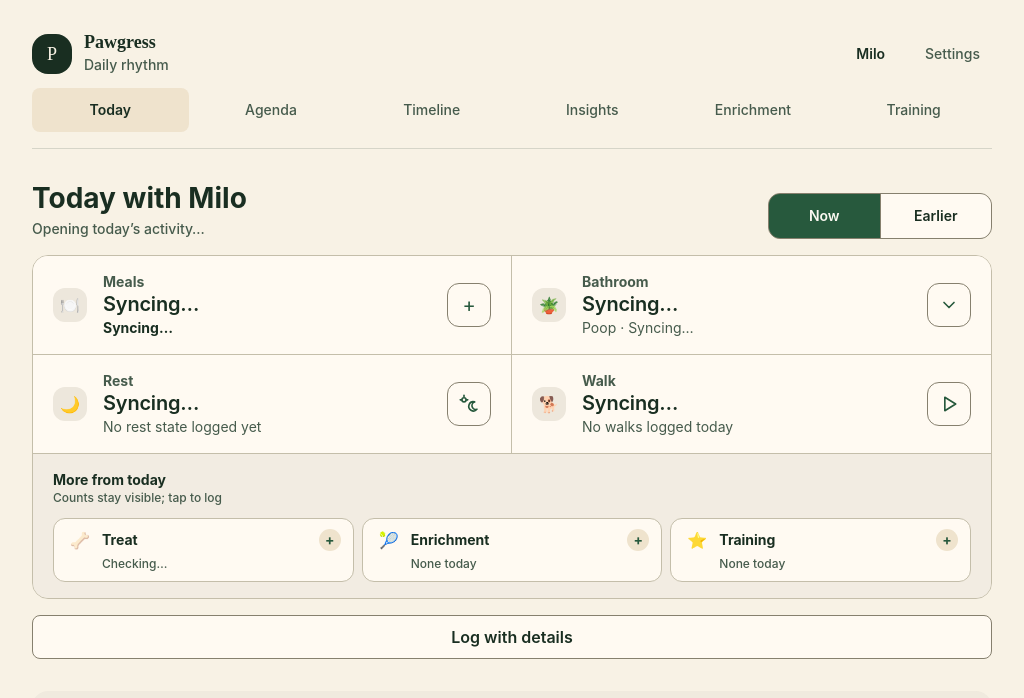
Test: DashboardPage walk controls › maps INVALID_WALK_INTERVAL to the start field and retains its value
Click the button "Earlier" at (936,216), box [880,194,991,238]
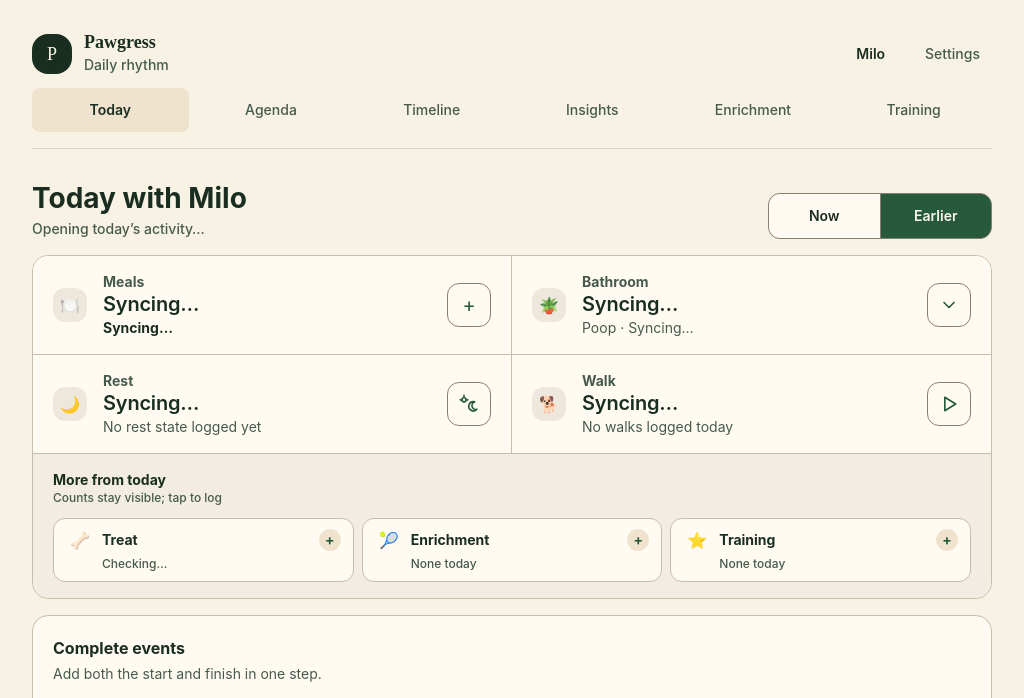
Click the button named "Start walk" at (949,404), box [927,382,971,426]
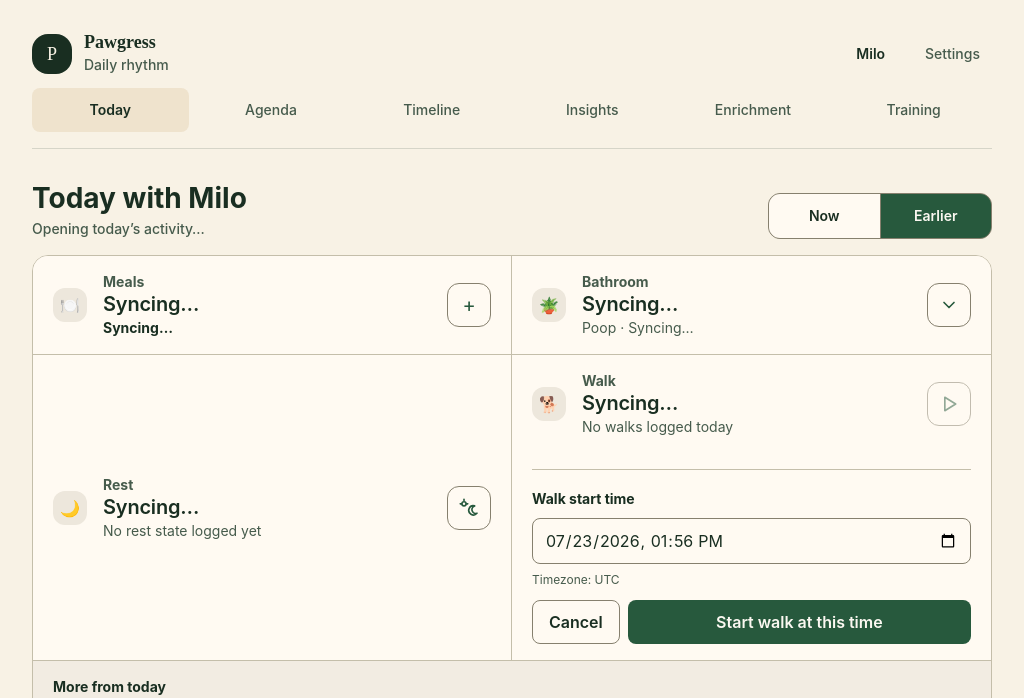
Replace the text in the field labelled "Walk start time" with "2026-07-08T20:15" at (752,541), box [532,518,971,564]
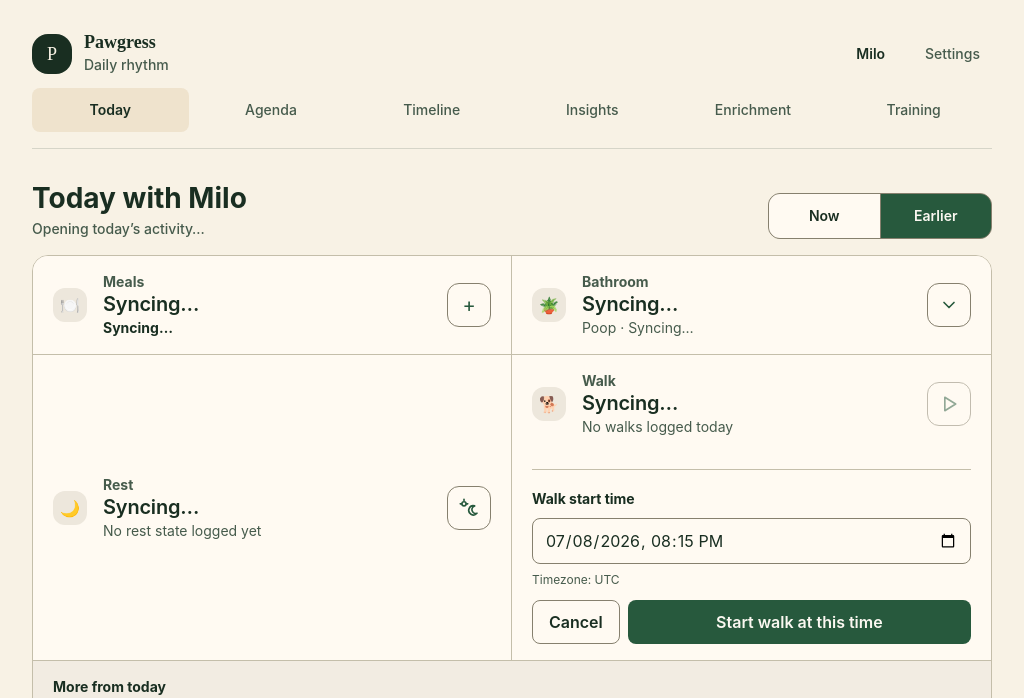
Click the button "Start walk at this time" at (799,622), box [628,600,971,644]
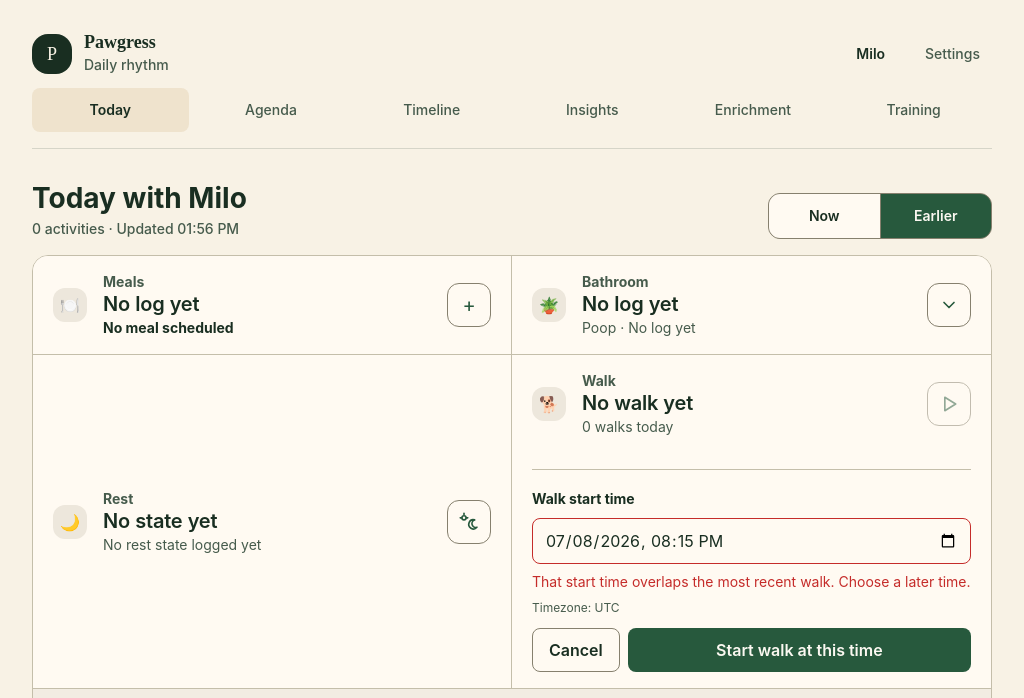
Now the text "That start time overlaps the most recent walk. Choose a later time." is shown, box [532,572,971,592]
